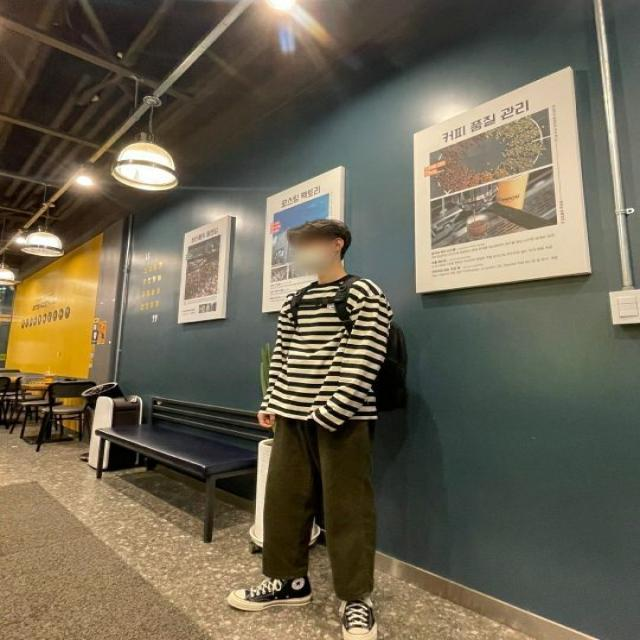cottonpants: (259, 412, 375, 600)
longsleeve: (264, 272, 398, 423)
